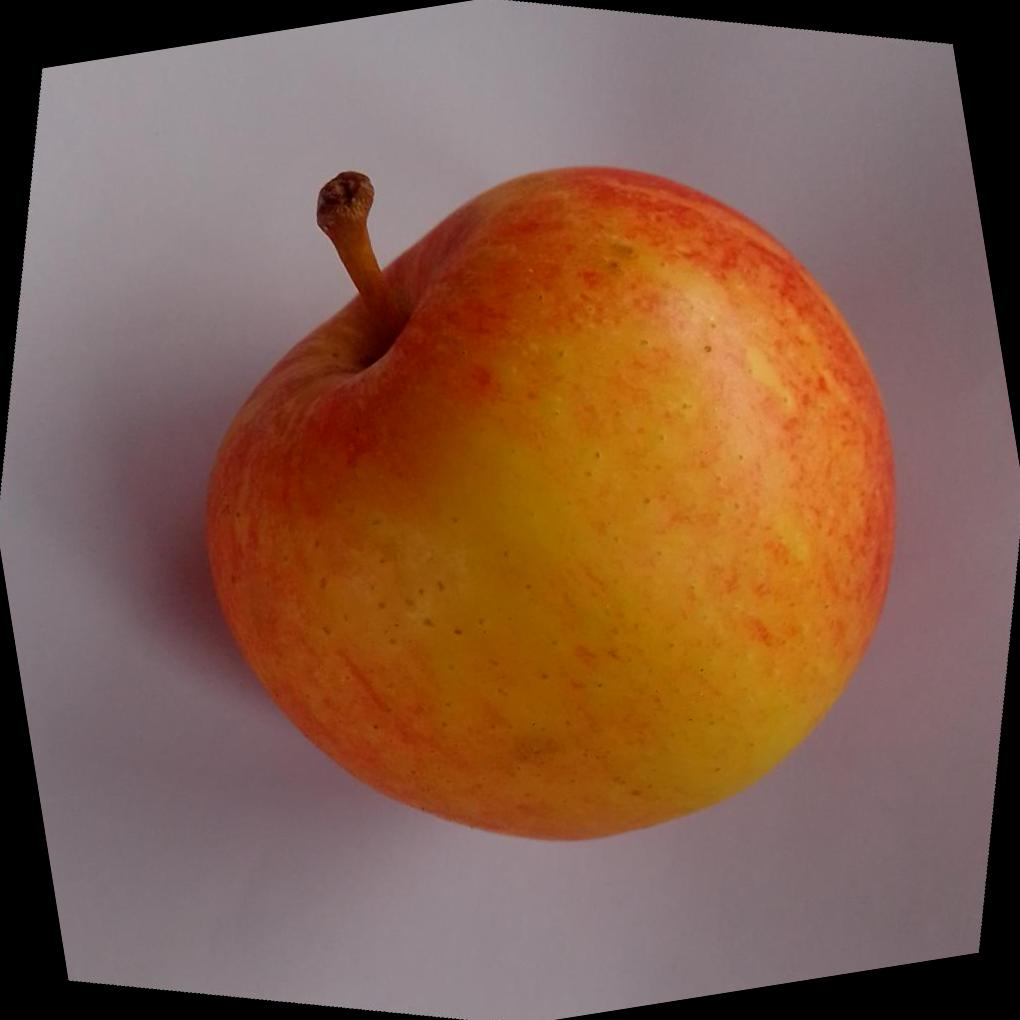FreshGuava: (201, 167, 898, 845)
